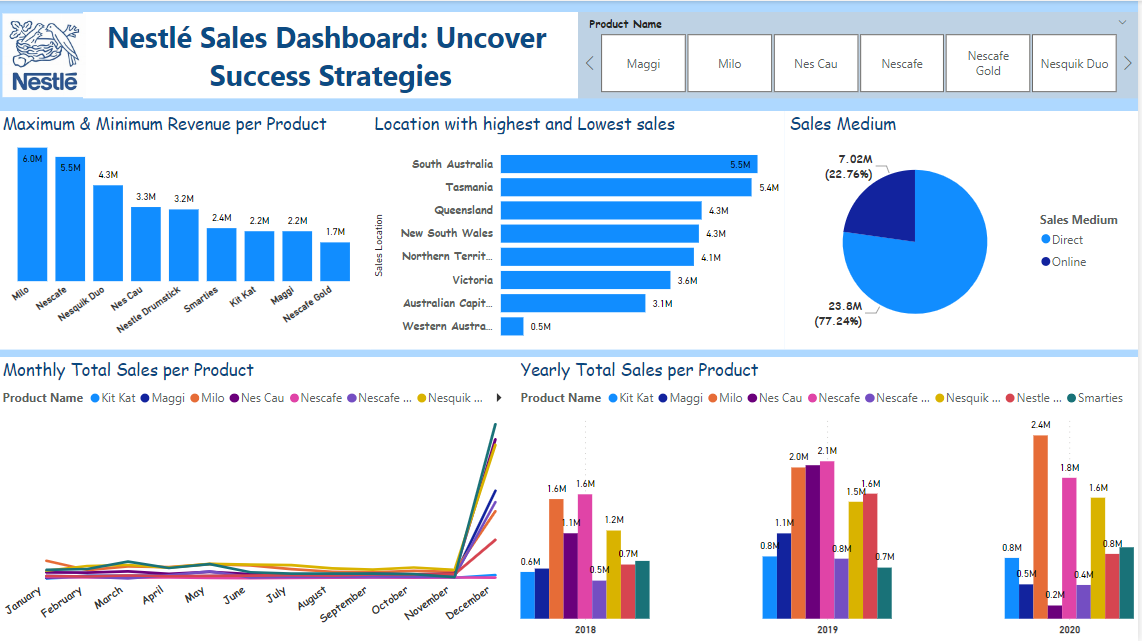

What the dashboard file says about the page in this screenshot:
{"tool":"powerbi","page":{"name":"Page 1","canvas":[1280,720],"ordinal":0},"visuals":[{"type":"lineChart","title":"YEARLY TREND OF TOTAL SALES PER PRODUCT","fields":{"Category":["Sales Log.Date.Variation.Date Hierarchy.Year"],"Y":["Sum(Sales Log.Total Revenue)"],"Series":["Sales Log.Product Name"]},"box":[877.3,116.8,402.1,259.5],"z":0},{"type":"textbox","box":[241.6,0,877.8,56.5],"z":1000},{"type":"lineChart","title":"MONTHLY TREND OF TOTAL SALES PER PRODUCT","fields":{"Category":["Sales Log.Date.Variation.Date Hierarchy.Month"],"Y":["Avg(Sales Log.Total Revenue)"],"Series":["Sales Log.Product Name"]},"box":[19.3,408.7,512.8,311],"z":2000},{"type":"barChart","title":"MINIMUM & MAXIMUM REVENUE GENERATED PER PRODUCT","fields":{"Category":["Sales Log.Product Name"],"Y":["Avg(Sales Log.Total Revenue)"]},"box":[557.1,392,348.2,328],"z":3000},{"type":"columnChart","title":"REVENUE GENERATED PER PRODUCT","fields":{"Category":["Sales Log.Product Name"],"Y":["Avg(Sales Log.Total Revenue)"]},"box":[448.2,116.8,416.7,255],"z":4000},{"type":"pieChart","title":"DISTRIBUTION OF REVENUE BY SALES MEDIUM","fields":{"Category":["Sales Log.Sales Medium"],"Y":["Avg(Sales Log.Total Revenue)"]},"box":[19.1,116.8,402.1,269.6],"z":5000},{"type":"lineChart","title":"LOCATION WITH HIGHEST AND LOWEST SALES","fields":{"Category":["Sales Log.Sales Location"],"Y":["Avg(Sales Log.Total Revenue)"]},"box":[931.7,392,348.3,327.7],"z":6000},{"type":"image","box":[0,0,213.4,116.8],"z":7000}]}

Visuals, with their boxes in screenshot pixels (x1, y1, x2, y2), scaled from the page's 1280x720 canvas onto the 1142x641 screenshot:
"YEARLY TREND OF TOTAL SALES PER PRODUCT" lineChart: bbox=[783, 104, 1141, 335]
textbox: bbox=[216, 0, 999, 50]
"MONTHLY TREND OF TOTAL SALES PER PRODUCT" lineChart: bbox=[17, 364, 475, 640]
"MINIMUM & MAXIMUM REVENUE GENERATED PER PRODUCT" barChart: bbox=[497, 349, 808, 640]
"REVENUE GENERATED PER PRODUCT" columnChart: bbox=[400, 104, 772, 331]
"DISTRIBUTION OF REVENUE BY SALES MEDIUM" pieChart: bbox=[17, 104, 376, 344]
"LOCATION WITH HIGHEST AND LOWEST SALES" lineChart: bbox=[831, 349, 1141, 640]
image: bbox=[0, 0, 190, 104]
